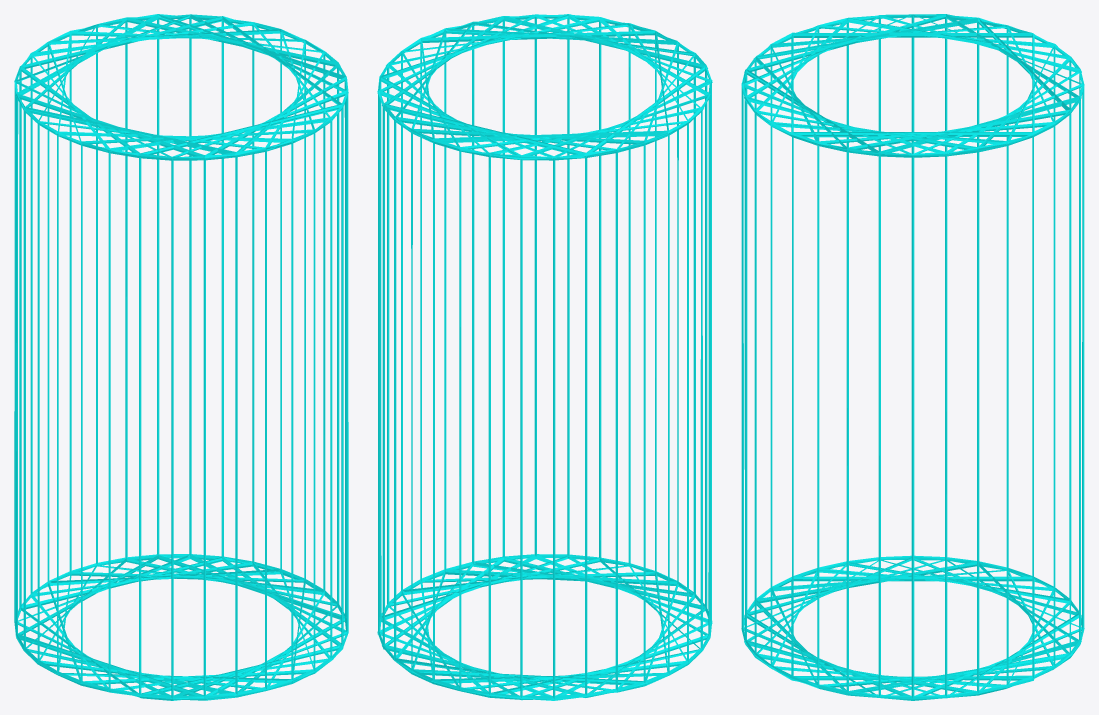
3 views of the same model, side by side, from view 1: azimuth 30°, elevation 25°; view 2: azimuth 150°, elevation 25°; view 3: azimuth 270°, elevation 25° (orthographic).
Visible parts, largest first — view 1: 立方体; view 2: 立方体; view 3: 立方体.
Boxes of the visible parts, x1=… form: 立方体: x1=14, y1=14, x2=348, y2=700; 立方体: x1=377, y1=14, x2=712, y2=700; 立方体: x1=741, y1=14, x2=1084, y2=700.
Size of the model in its own units: 16.99 by 30.74 by 17.42.
